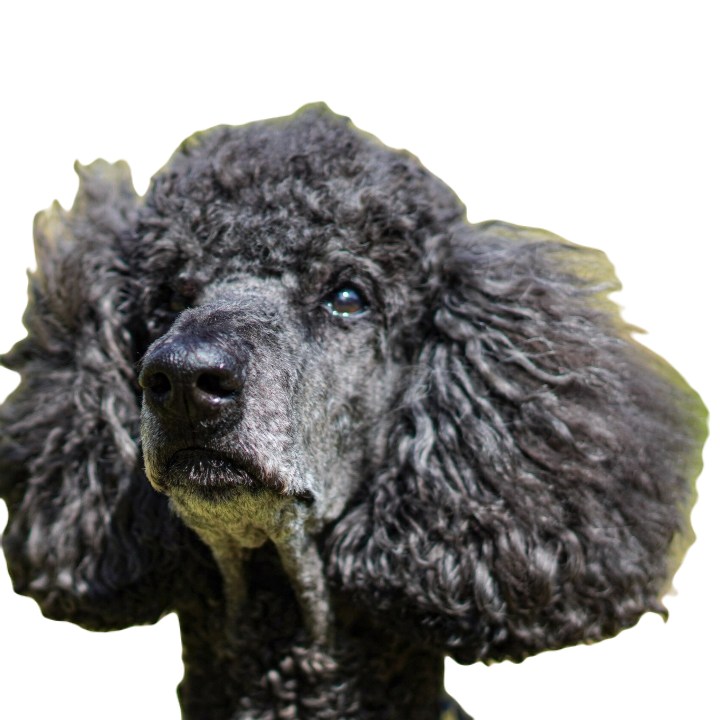Dog: (0, 101, 709, 719)
